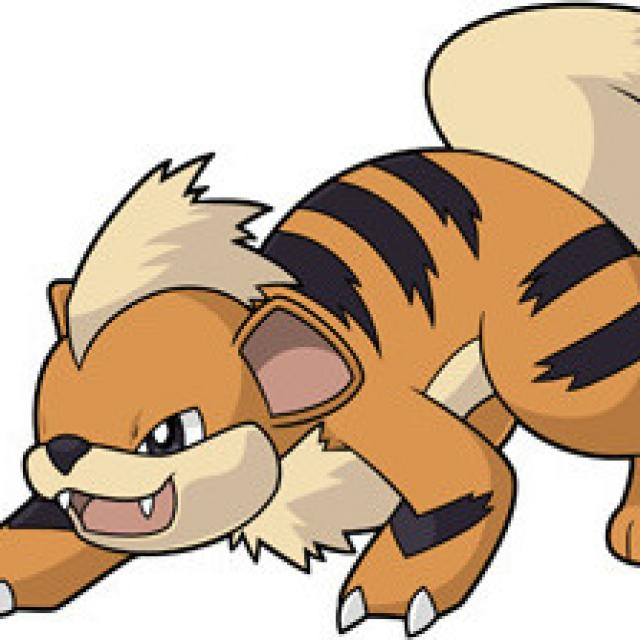Growlithe: (0, 17, 640, 640)
